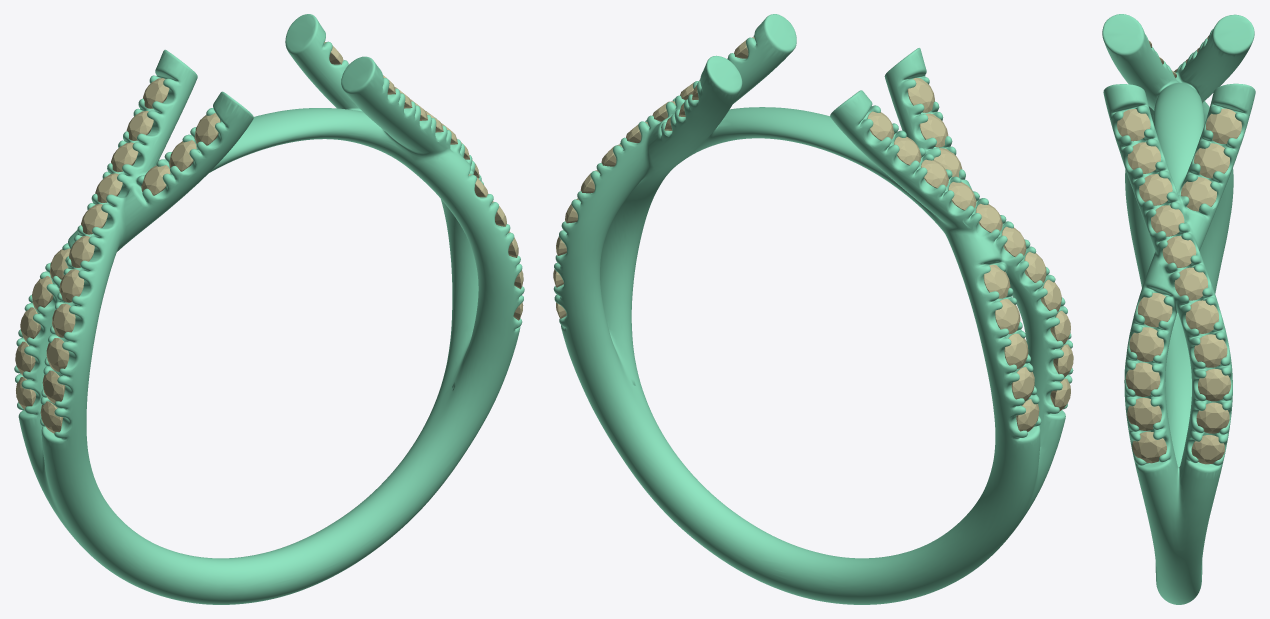
The picture shows the model from 3 angles, left to right: view 1: azimuth 30°, elevation 25°; view 2: azimuth 150°, elevation 25°; view 3: azimuth 270°, elevation 25°; orthographic projection. The views are drawn at different scales.
Visible parts, largest first — view 1: Metal02; view 2: Metal02; view 3: Metal02, Diamond_Gem.022, Diamond_Gem.026, Diamond_Gem.025, Diamond_Gem.021, Diamond_Gem, Diamond_Gem.031, Diamond_Gem.030, Diamond_Gem.024, Diamond_Gem.020, Diamond_Gem.029, Diamond_Gem.032 (+8 smaller).
Boxes of the visible parts, box(x1,y1,x2,y2) form: Metal02: box(14, 14, 524, 604); Metal02: box(553, 14, 1073, 604); Metal02: box(1102, 14, 1255, 604); Diamond_Gem.022: box(1206, 108, 1241, 143); Diamond_Gem.026: box(1129, 327, 1163, 361); Diamond_Gem.025: box(1125, 362, 1160, 396); Diamond_Gem.021: box(1194, 143, 1229, 178); Diamond_Gem: box(1137, 293, 1172, 327); Diamond_Gem.031: box(1185, 300, 1218, 333); Diamond_Gem.030: box(1194, 334, 1227, 367); Diamond_Gem.024: box(1127, 397, 1161, 430); Diamond_Gem.020: box(1181, 177, 1216, 211); Diamond_Gem.029: box(1198, 368, 1231, 401); Diamond_Gem.032: box(1174, 267, 1207, 300).
Bounding box in the file's own units: 21.04 × 22.76 × 5.95.
